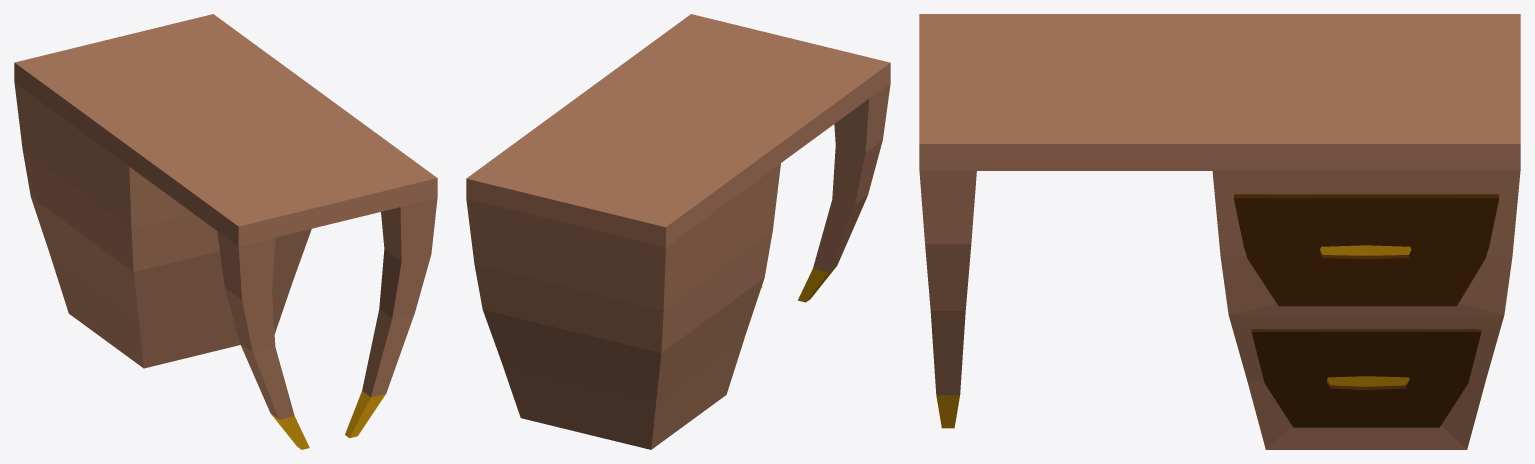
Rendered from Light_Desk_Model.fbx.
3 views of the same model, side by side, from view 1: azimuth 30°, elevation 25°; view 2: azimuth 150°, elevation 25°; view 3: azimuth 270°, elevation 25° (orthographic). The views are drawn at different scales.
Visible parts, largest first — view 1: 09_Desk; view 2: 09_Desk; view 3: 09_Desk, 09a_Drawer_Top, 09b_Drawer_Bot.
Boxes of the visible parts, <box> form: 09_Desk: <box>14,14,437,449</box>; 09_Desk: <box>466,14,890,449</box>; 09_Desk: <box>919,14,1520,449</box>; 09a_Drawer_Top: <box>1233,194,1499,306</box>; 09b_Drawer_Bot: <box>1251,329,1481,427</box>.
Size of the model in its own units: 268 by 163 by 140.
